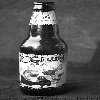beer: (19, 1, 74, 93)
